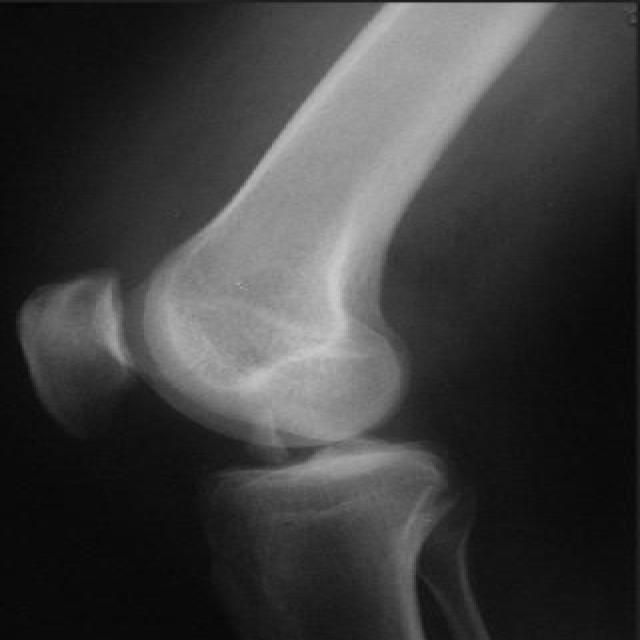Avulsion-fracture-: (152, 399, 400, 506)
